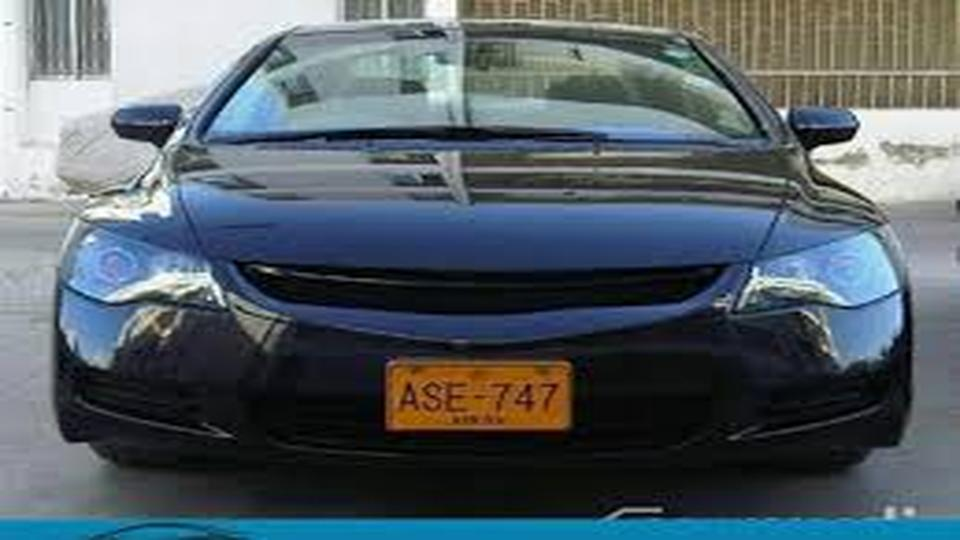NumberPlate: (363, 351, 584, 445)
